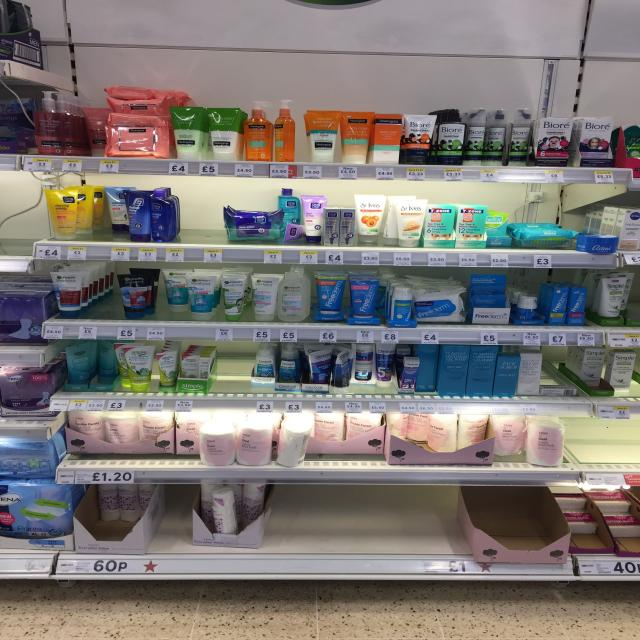100- O.O.S: (279, 486, 456, 575), (569, 420, 639, 484), (181, 184, 222, 262), (0, 190, 25, 273), (219, 344, 249, 410), (95, 271, 118, 339)
